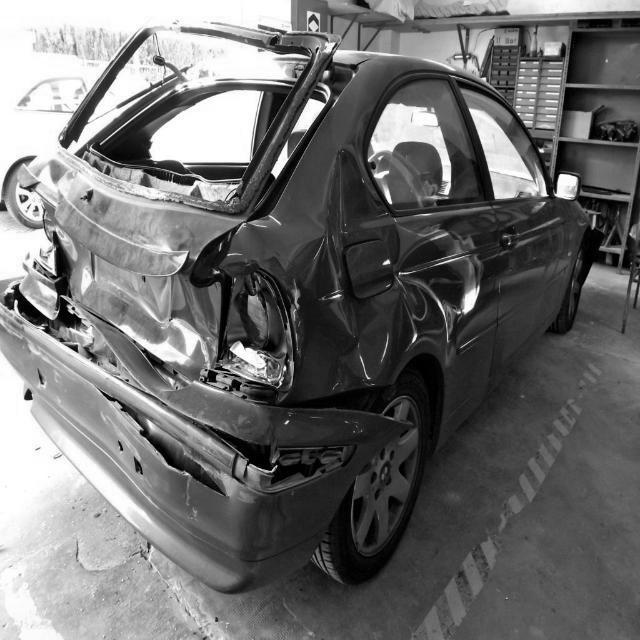doorouter-dent: (398, 210, 498, 391)
quaterpanel-dent: (278, 218, 400, 420)
rear-bumper-dent: (0, 338, 360, 579)
